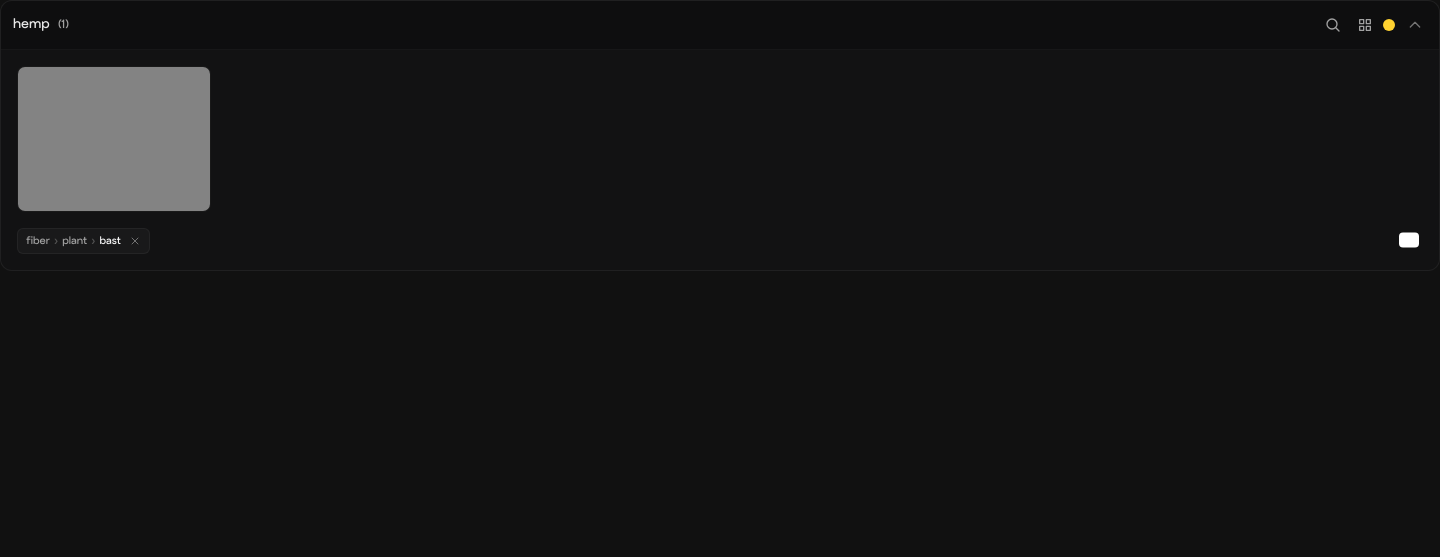
Scenario: ProfileCard multi-layer tag editor › opens taxonomy navigator from a selected tag pill
This screenshot has width=1440, height=557.
Click the button with aria-label "Edit tags for fiber/plant/bast": [84, 241] box [17,228,150,254]
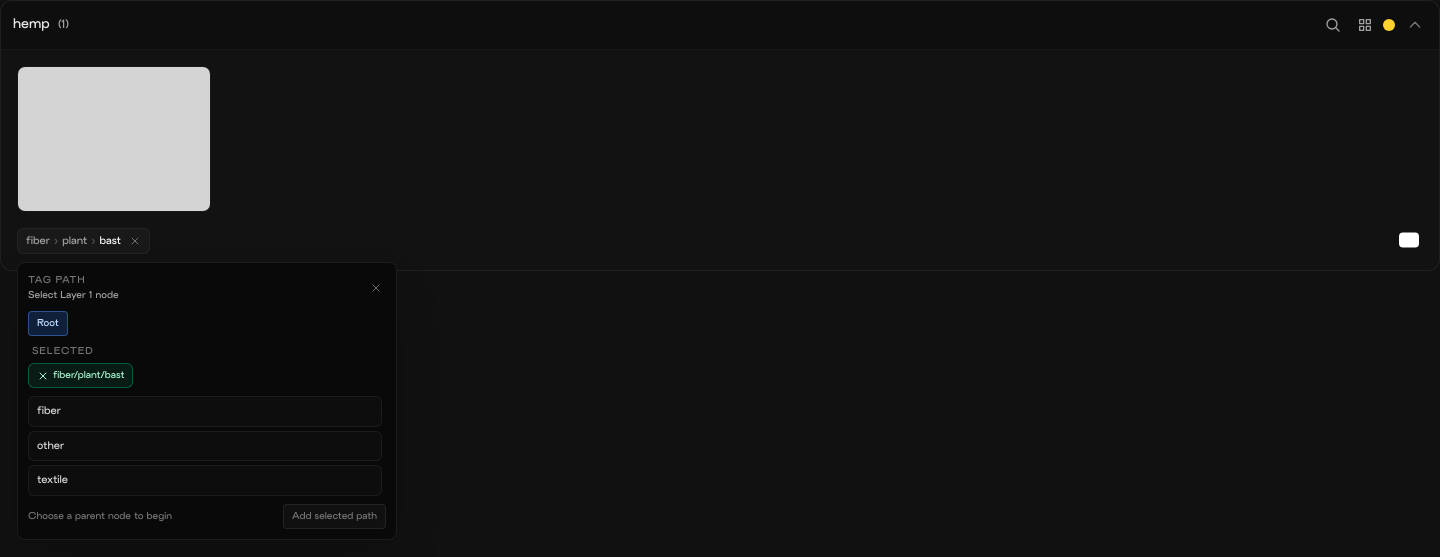
Expected: the button with aria-label "Select fiber" is shown, [28,396,382,426]
Expected: the button with aria-label "Select textile" is shown, [28,465,382,496]
Expected: the button with aria-label "Select other" is shown, [28,430,382,461]
